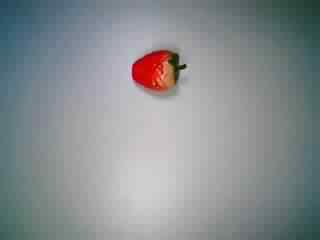strawberry: (126, 43, 189, 103)
